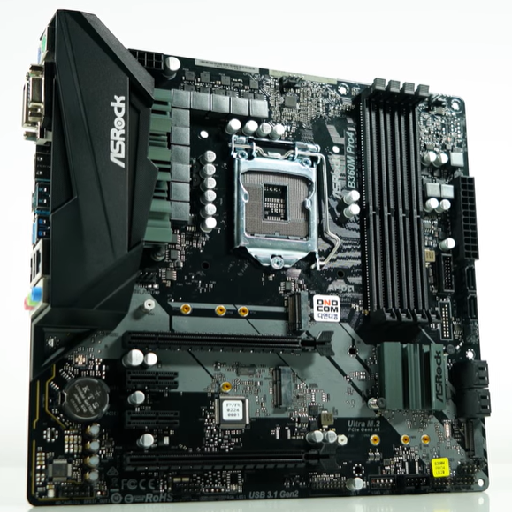CPU: (231, 129, 335, 273)
GPU: (116, 326, 339, 363), (120, 443, 339, 478)
MOTHERBOARD: (21, 7, 494, 506)
RAM: (353, 77, 439, 333)
SSD: (280, 271, 313, 331), (267, 363, 301, 417)
